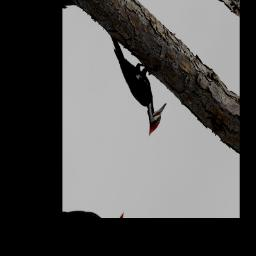Woodpecker: (91, 34, 172, 141)
